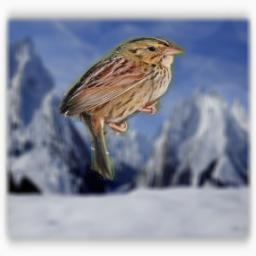Sparrow: (56, 36, 186, 183)
